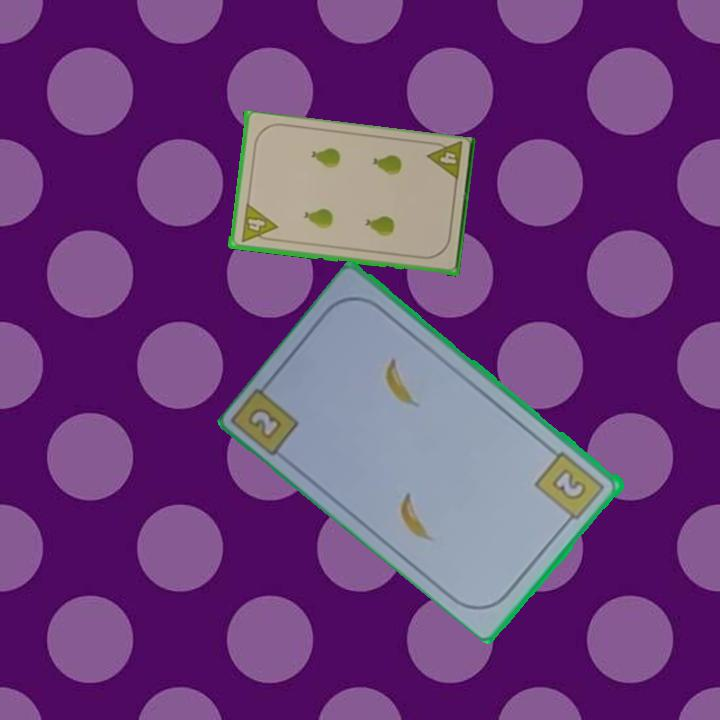2b: (532, 448, 608, 528), (247, 407, 282, 439)
4p: (423, 138, 465, 185), (237, 201, 279, 245)
